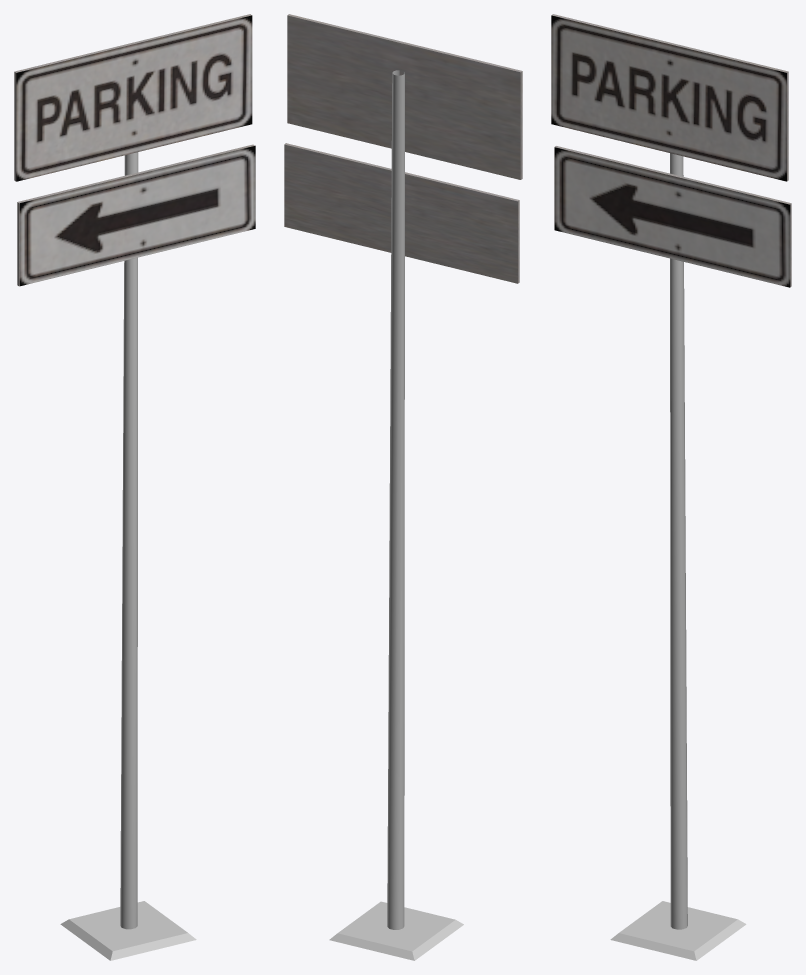
The model's file is D_road_s_park_L.FBX.
3 views of the same model, side by side, from view 1: azimuth 30°, elevation 25°; view 2: azimuth 150°, elevation 25°; view 3: azimuth 330°, elevation 25° (orthographic).
Parts seen in each view (by area): view 1: road_s_park_L; view 2: road_s_park_L; view 3: road_s_park_L.
Part boxes in pixels (left/top/right/bottom): road_s_park_L: left=14, top=14, right=255, bottom=960; road_s_park_L: left=284, top=14, right=522, bottom=960; road_s_park_L: left=551, top=14, right=791, bottom=960.
Size of the model in its own units: 2.86 by 1.04 by 10.22.
